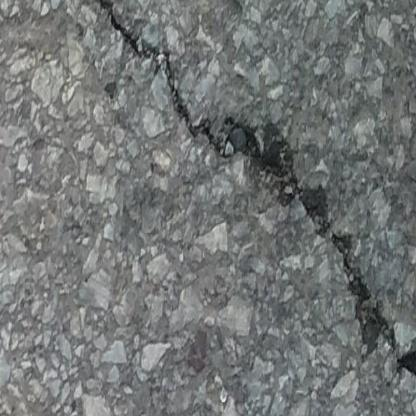Cracks: (72, 0, 416, 383)
